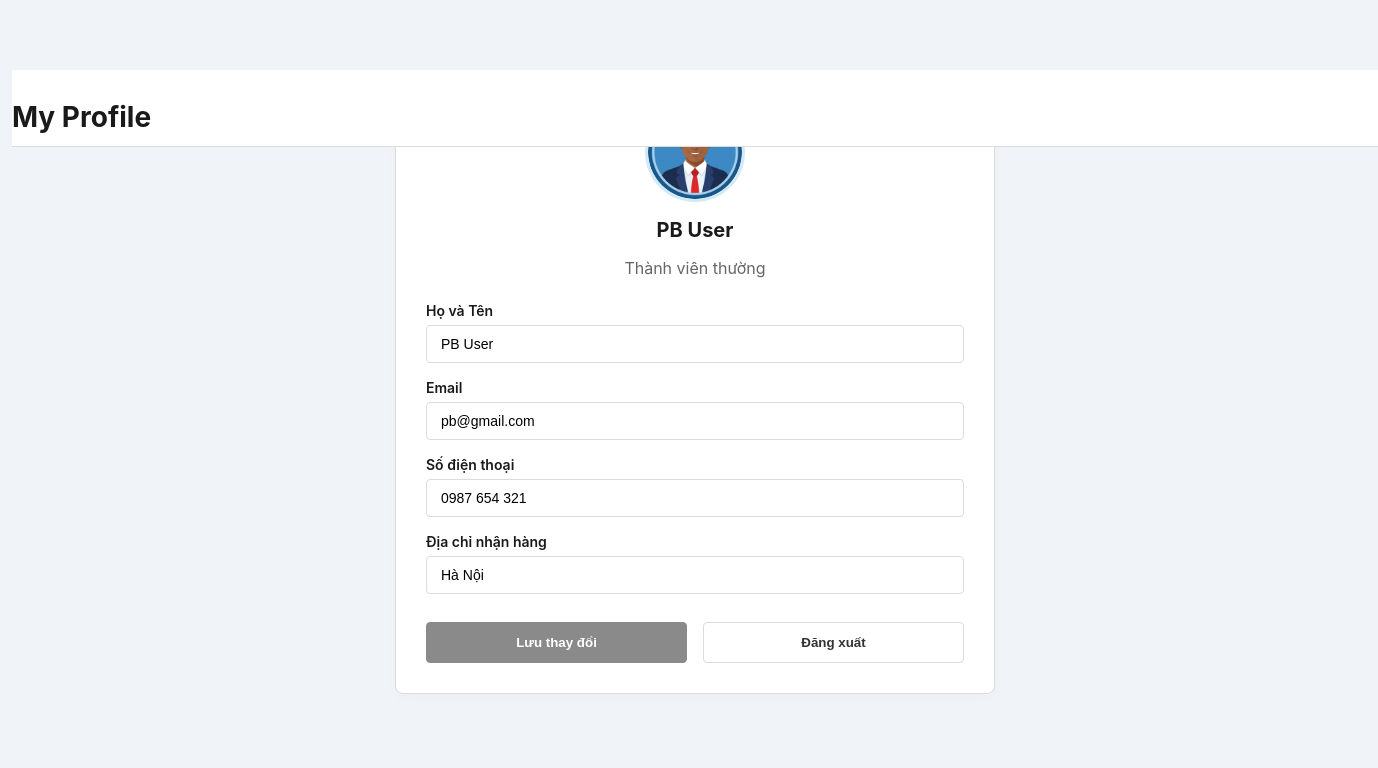
Scenario: Profile Component › updates profile in PocketBase if logged in to PocketBase
This screenshot has width=1378, height=768.
Replace the text in the field labelled "Họ và Tên" with "New Name" at (695, 344), box [426,325,964,363]
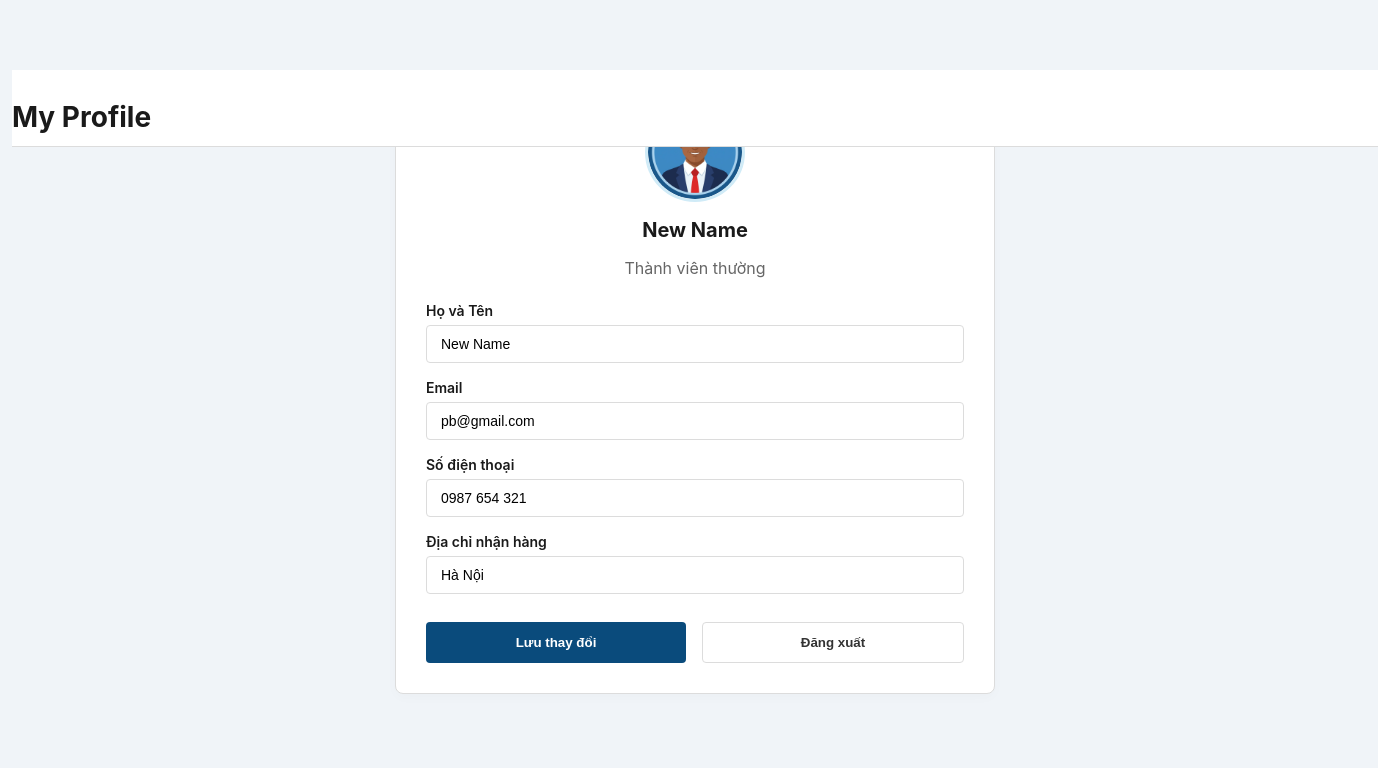
Submit the form "Lưu thay đổi", box [426,302,964,663]
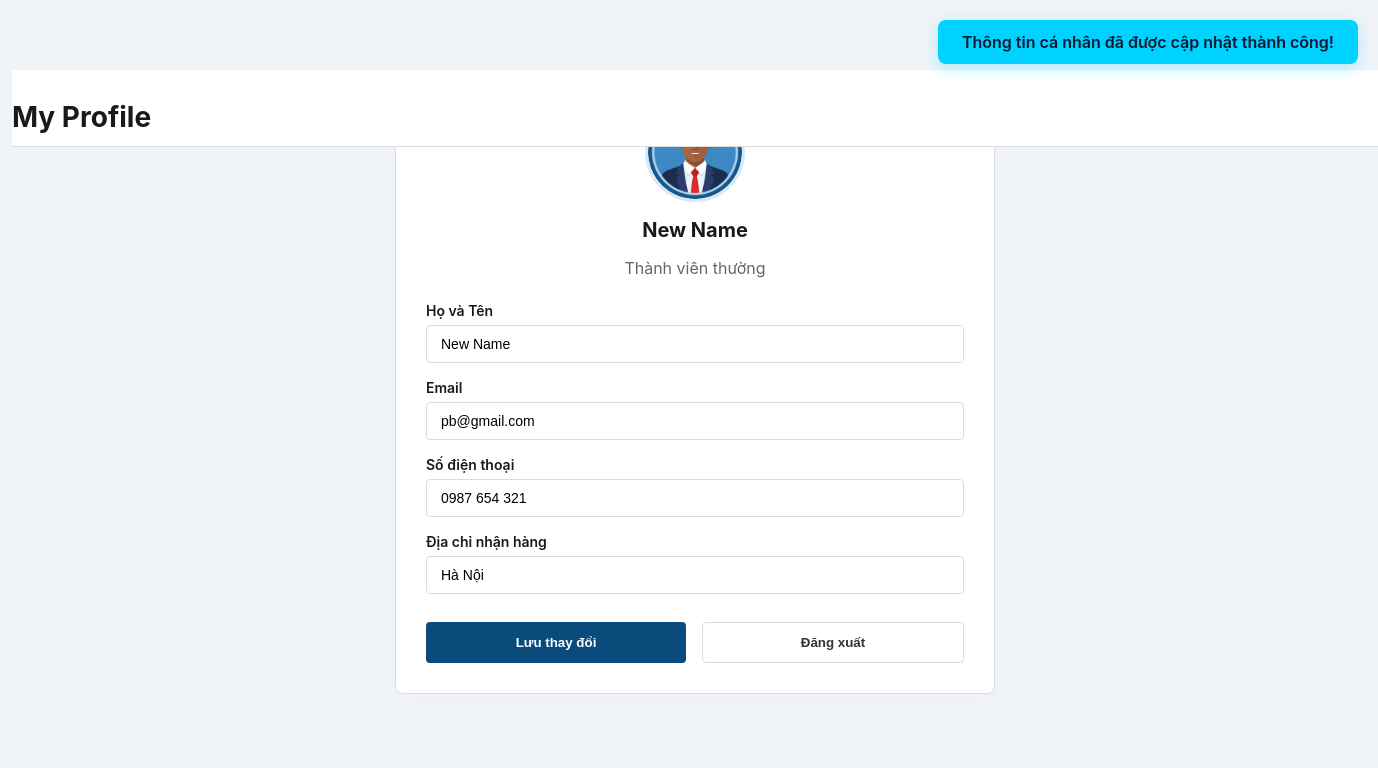
Check: the text "Thông tin cá nhân đã được cập nhật thành công!" is shown, box [938,20,1358,64]
